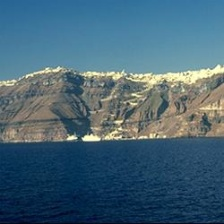neutral: (3, 6, 224, 218)
